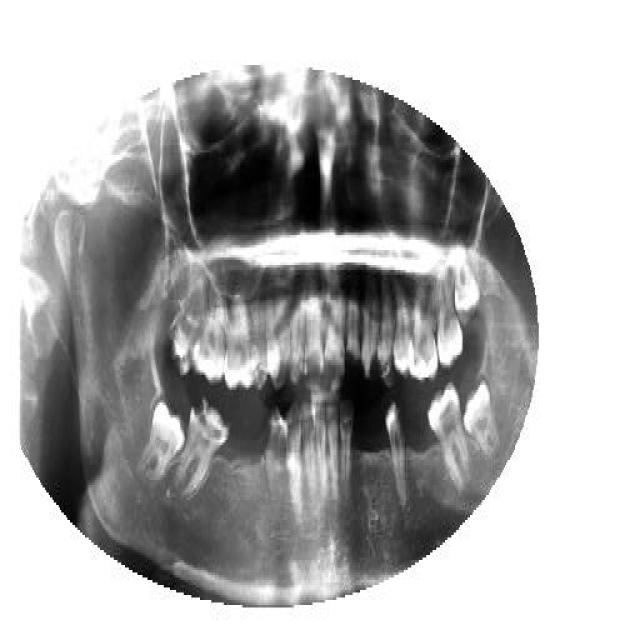Cavity: (172, 395, 232, 500), (264, 400, 286, 518), (386, 397, 406, 505), (376, 282, 394, 382), (344, 298, 361, 378), (362, 285, 376, 380)
Impacted Tooth: (138, 395, 182, 485), (462, 375, 500, 460), (452, 248, 482, 328)
